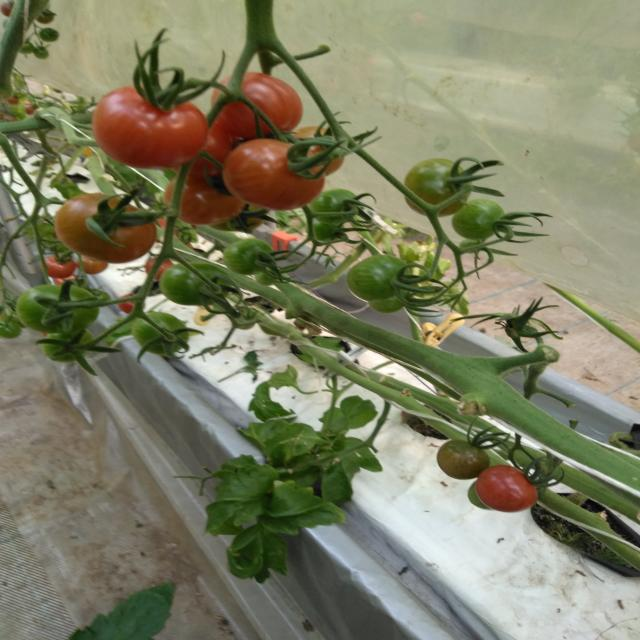c-half-riped: (221, 138, 326, 211), (55, 193, 158, 264), (164, 174, 245, 226), (280, 126, 344, 175), (437, 439, 491, 480), (206, 202, 269, 232), (75, 256, 108, 275)
c-riped: (92, 84, 209, 170), (211, 70, 302, 140), (169, 112, 244, 178), (476, 464, 537, 513), (38, 255, 76, 279)
c-unriped: (15, 285, 99, 334), (403, 158, 471, 218), (160, 262, 231, 306), (347, 254, 411, 302), (130, 312, 188, 355), (451, 199, 506, 241), (223, 238, 275, 276), (306, 187, 358, 224), (41, 328, 95, 363), (367, 288, 410, 314), (306, 216, 346, 240), (467, 482, 495, 511), (255, 268, 279, 285)
